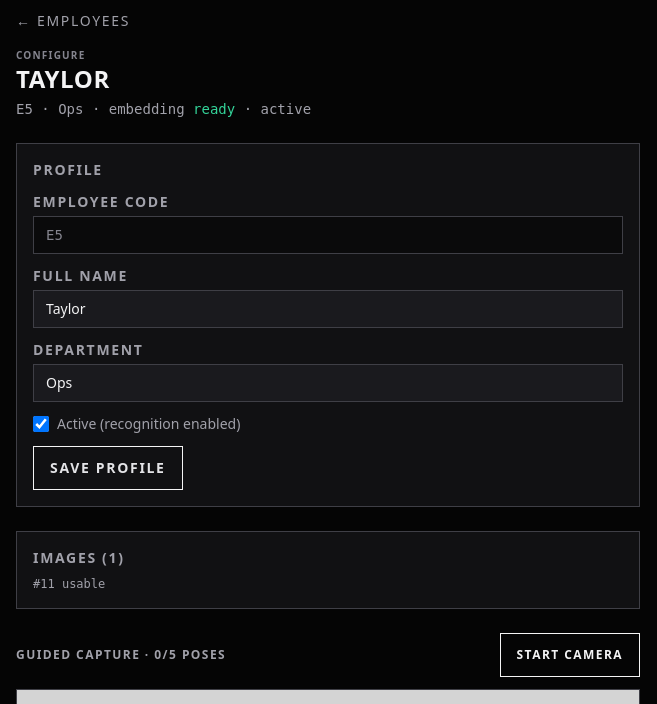
EmployeeDetailPage edit and deactivate › confirmed deactivation PATCHes is_active false
Click the checkbox with test id "edit-is-active": (41, 424) 33,416 -> 49,432
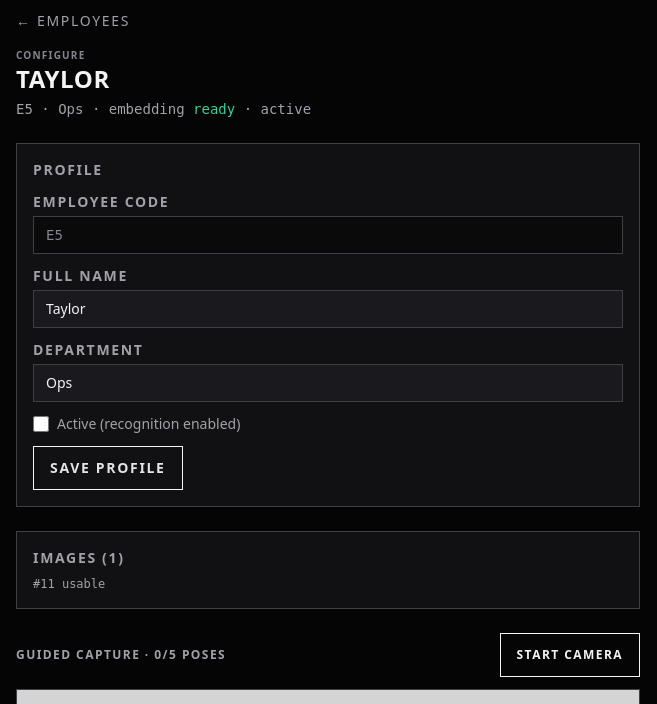
Expected: the checkbox with test id "edit-is-active" is not checked, 33,416 -> 49,432
Click the button with test id "save-profile": (108, 468) 33,446 -> 183,490
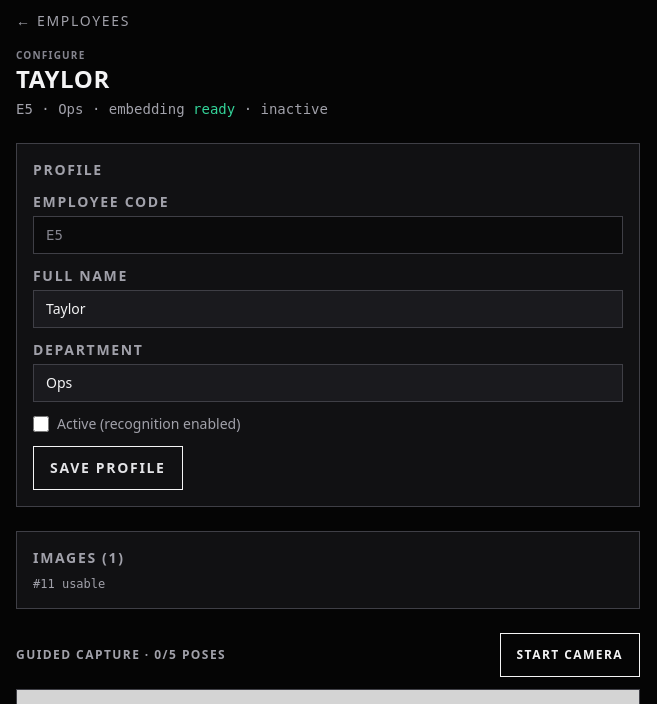
Expected: the text with test id "employee-active-display" reads "inactive", 260,101 -> 328,117
